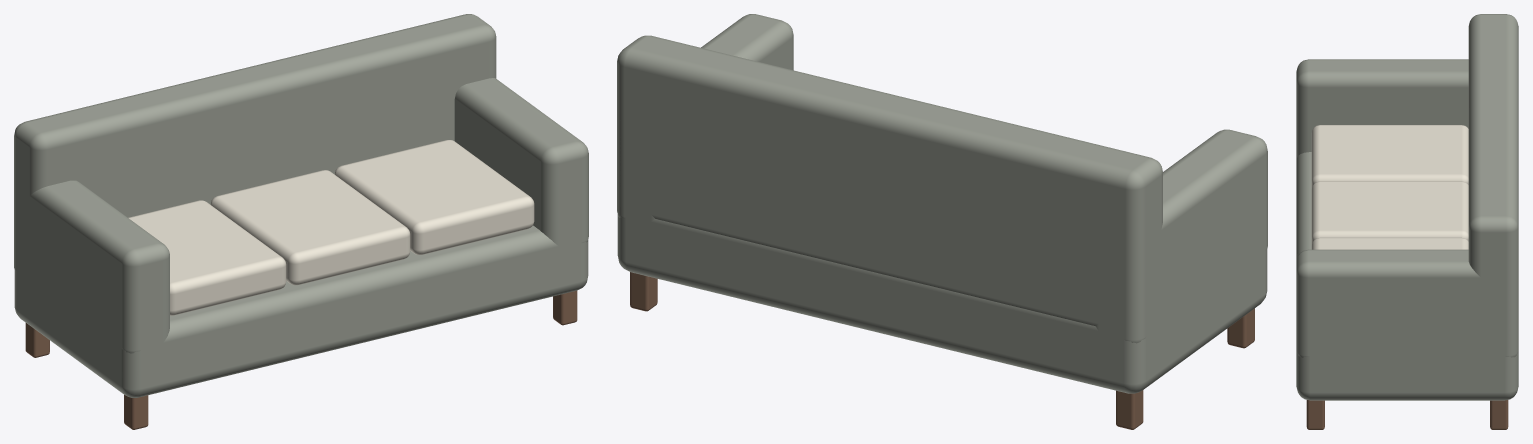
File: paranormal-investigation-house-sofa-d495e55d__26720.glb
3 views of the same model, side by side, from view 1: azimuth 30°, elevation 25°; view 2: azimuth 150°, elevation 25°; view 3: azimuth 270°, elevation 25° (orthographic). The views are drawn at different scales.
Visible parts, largest first — view 1: sofa; view 2: sofa; view 3: sofa.
Boxes of the visible parts, x1,y1,x2,y2 form: sofa: (14,14,588,429); sofa: (617,14,1267,429); sofa: (1296,14,1518,429).
Bounding box in the file's own units: 1.8 × 0.85 × 0.7999.
